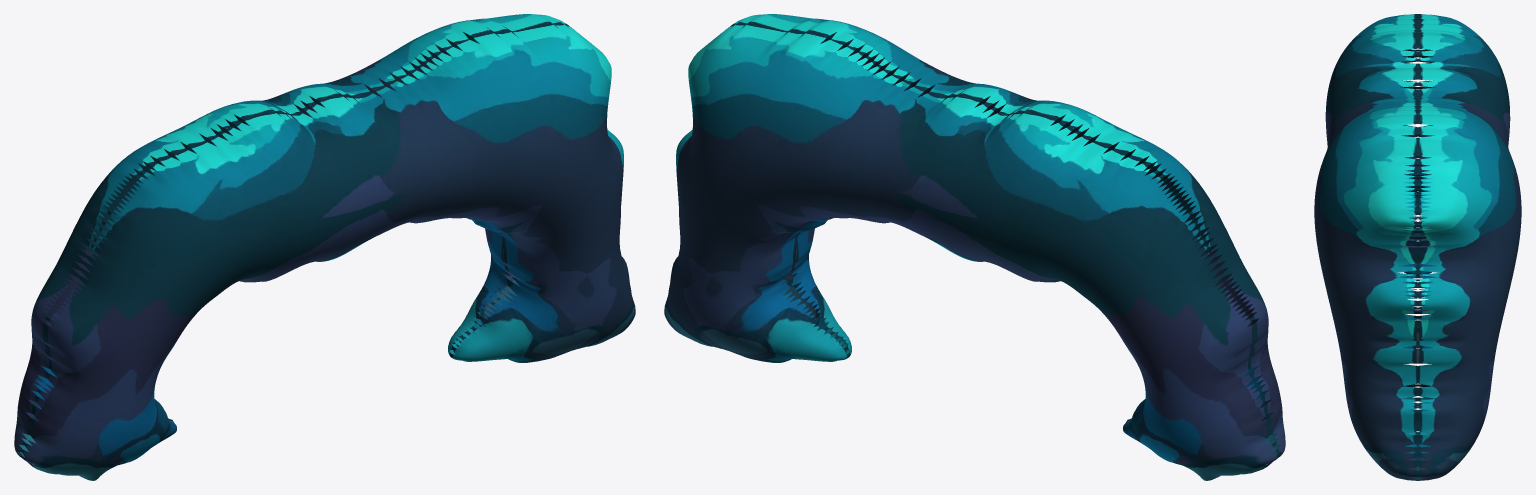
The model's file is stone_arch.glb.
3 renders of one model, left to right at view 1: azimuth 30°, elevation 25°; view 2: azimuth 150°, elevation 25°; view 3: azimuth 270°, elevation 25°, orthographic. The views are drawn at different scales.
Visible parts, largest first — view 1: stone_arch; view 2: stone_arch; view 3: stone_arch.
Part boxes in pixels (x1,y1,x2,y2): stone_arch: (14, 14, 635, 480); stone_arch: (664, 14, 1285, 480); stone_arch: (1314, 14, 1521, 480).
Size of the model in its own units: 0.9882 by 0.5171 by 0.3107.
Materials: 1 (1 with a texture image).
